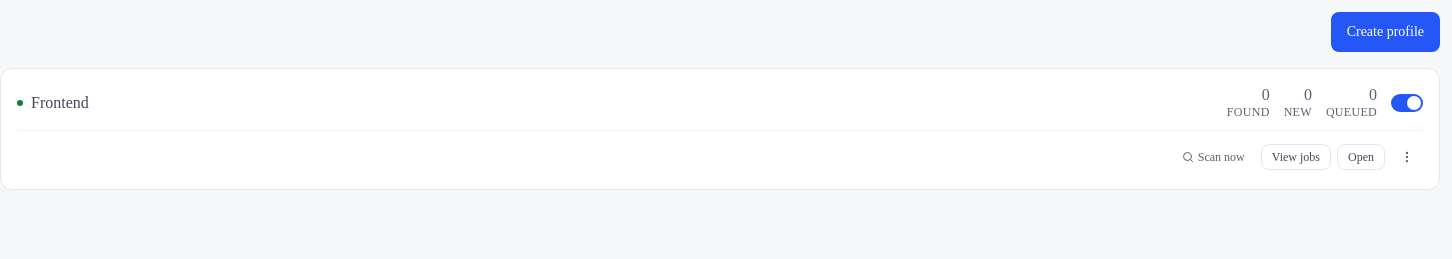
Test: ProfileList › shows an error message when PATCH fails and does not reload
Expected: the link "Frontend" is shown, [31, 90, 89, 114]
Click the switch named "active".
click(1407, 102)  # box [1391, 94, 1423, 112]
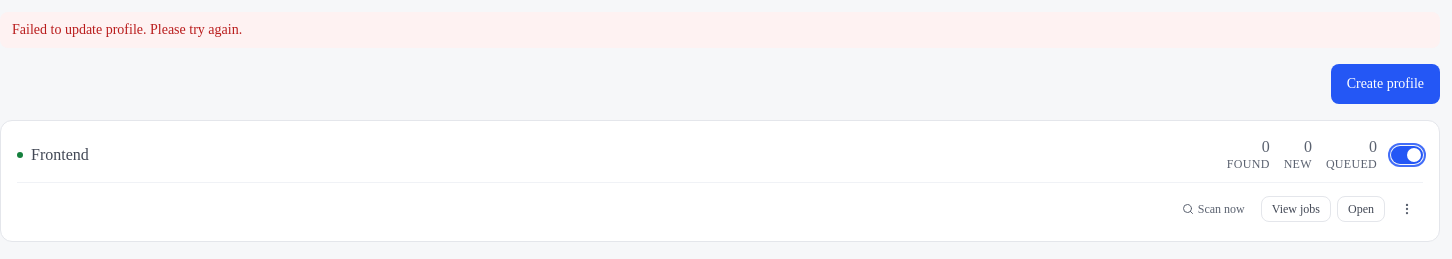
Expected: the link "Frontend" is shown, [31, 142, 89, 166]
Expected: the text "Failed to update profile. Please try again." is shown, [0, 12, 1440, 48]
